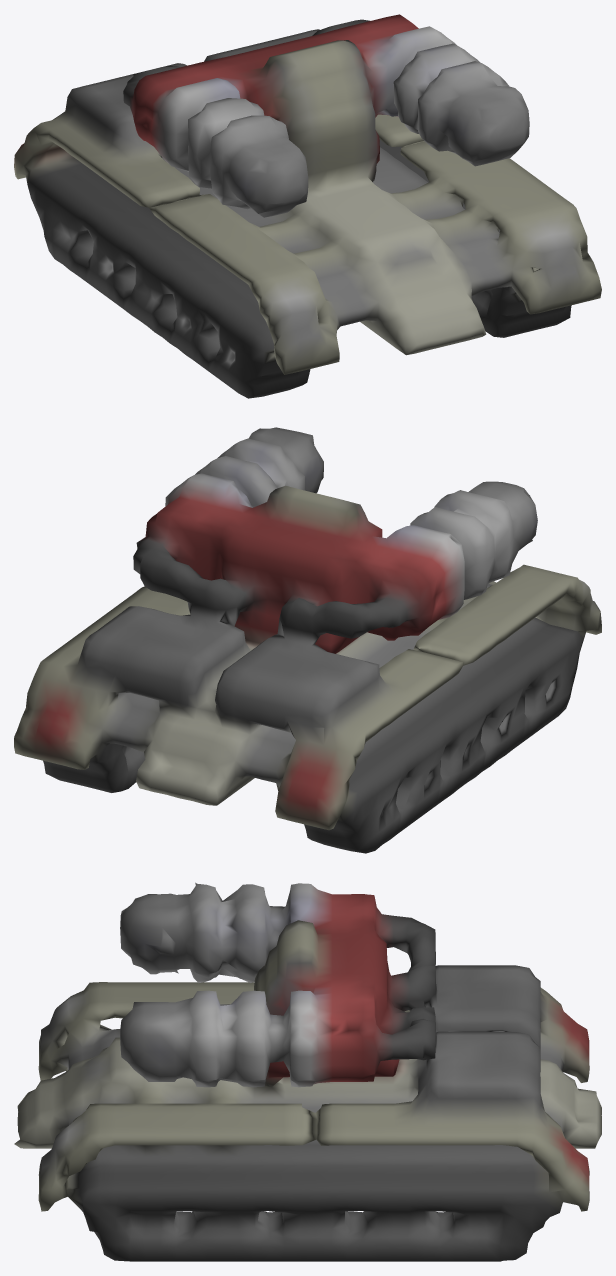
File: tesla_tank.glb
3 renders of one model, top to bottom at view 1: azimuth 30°, elevation 25°; view 2: azimuth 150°, elevation 25°; view 3: azimuth 270°, elevation 25°, orthographic.
Parts seen in each view (by area): view 1: tesla_tank; view 2: tesla_tank; view 3: tesla_tank.
Boxes of the visible parts, x1,y1,x2,y2 form: tesla_tank: [14, 14, 601, 398]; tesla_tank: [14, 427, 601, 853]; tesla_tank: [14, 882, 601, 1261].
Bounding box in the file's own units: 2.52 × 1.85 × 3.94.
